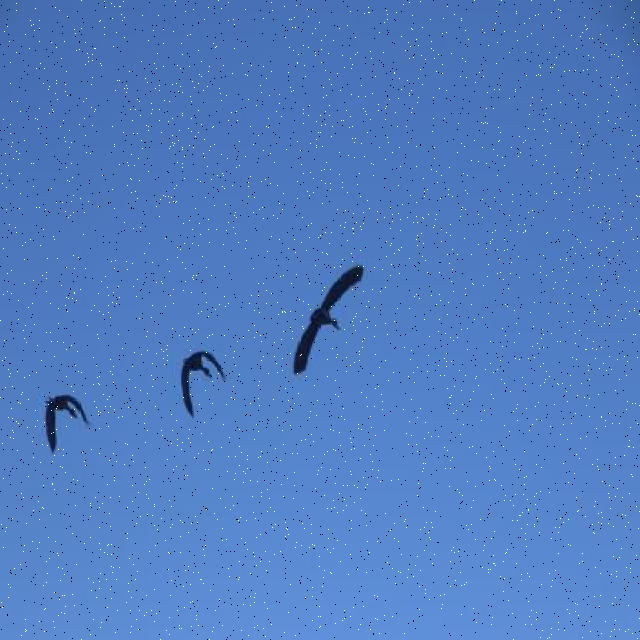bird: (293, 263, 364, 377), (42, 386, 93, 459), (178, 350, 230, 421)
